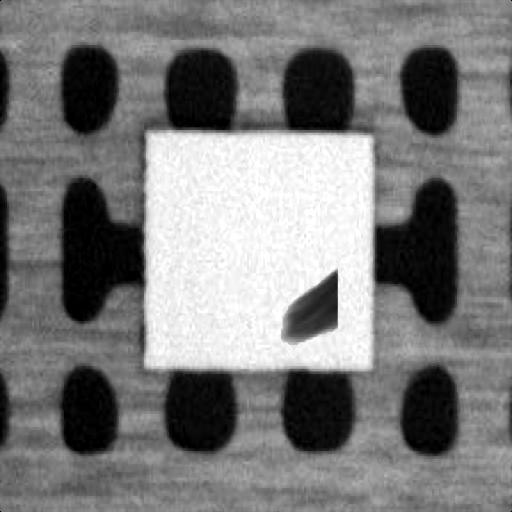DIE_INK: (277, 263, 336, 342)
